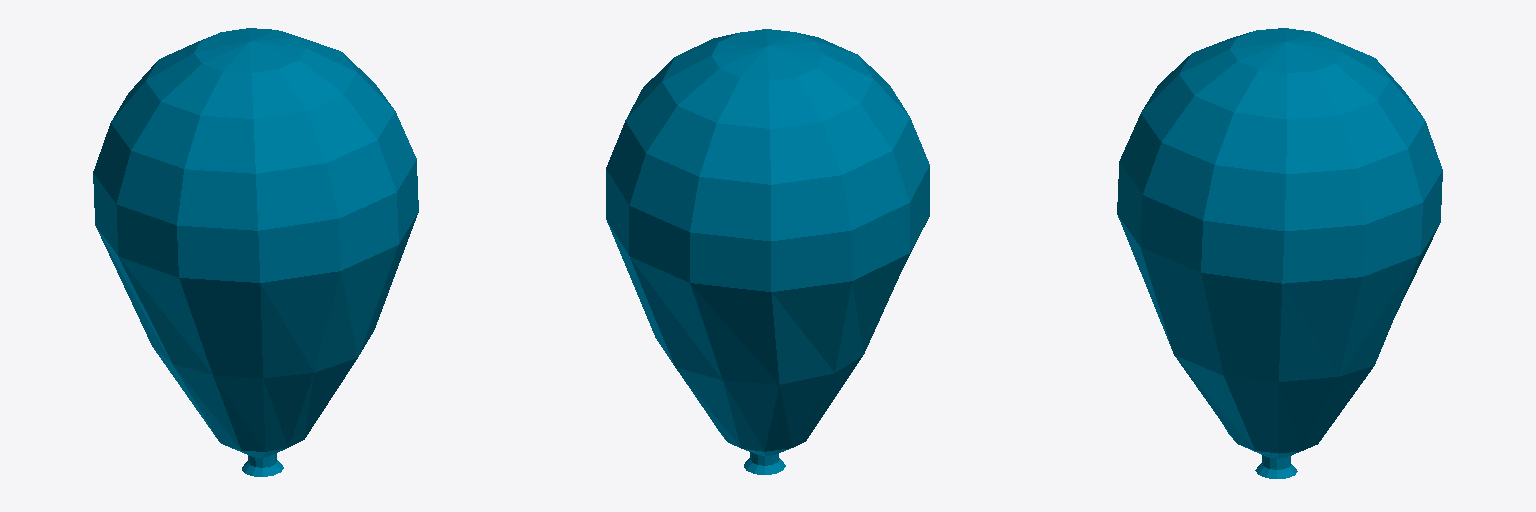
The model's file is Balloon.obj.
3 renders of one model, left to right at view 1: azimuth 30°, elevation 25°; view 2: azimuth 150°, elevation 25°; view 3: azimuth 270°, elevation 25°, orthographic.
Parts seen in each view (by area): view 1: model:Mesh; view 2: model:Mesh; view 3: model:Mesh.
Part boxes in pixels (x1,y1,x2,y2): model:Mesh: (93,28,418,476); model:Mesh: (606,29,929,474); model:Mesh: (1117,28,1442,478).
Size of the model in its own units: 0.8216 by 1.19 by 0.8237.